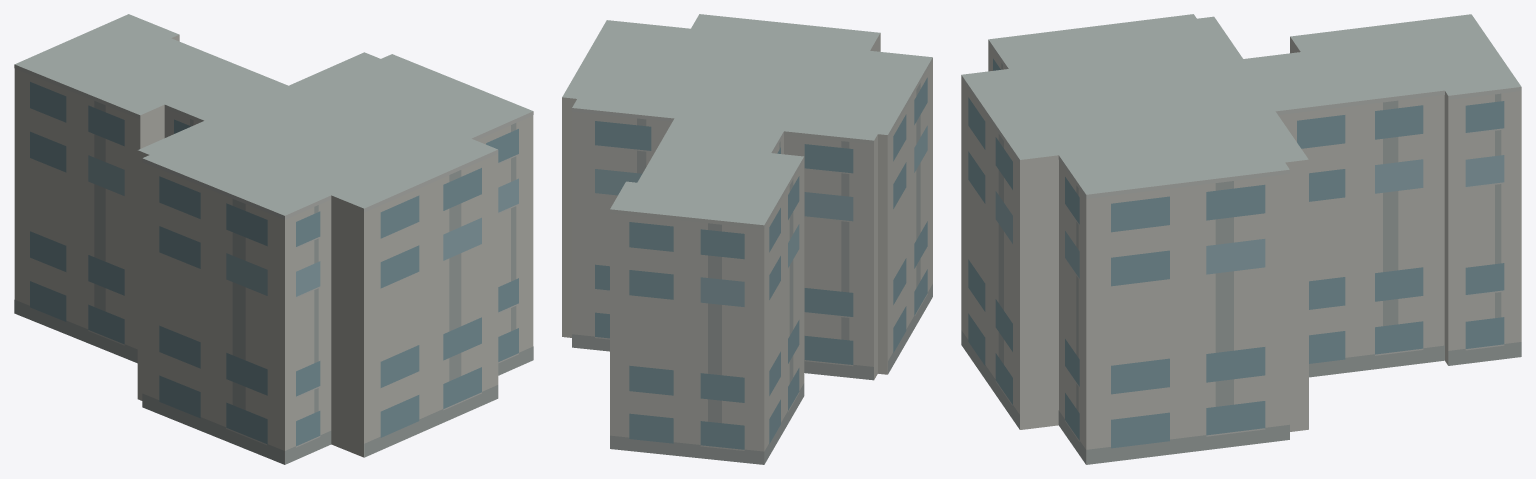
Rendered from residential-d09694d7-2ddc-436d-8719-87179670d28a.glb.
3 renders of one model, left to right at view 1: azimuth 30°, elevation 25°; view 2: azimuth 150°, elevation 25°; view 3: azimuth 270°, elevation 25°, orthographic. The views are drawn at different scales.
Visible parts, largest first — view 1: residential-d09694d7-2ddc-436d-8719-87179670d28a.tmp; view 2: residential-d09694d7-2ddc-436d-8719-87179670d28a.tmp; view 3: residential-d09694d7-2ddc-436d-8719-87179670d28a.tmp.
Boxes of the visible parts, <box> form: residential-d09694d7-2ddc-436d-8719-87179670d28a.tmp: <box>14,14,533,464</box>; residential-d09694d7-2ddc-436d-8719-87179670d28a.tmp: <box>562,14,932,464</box>; residential-d09694d7-2ddc-436d-8719-87179670d28a.tmp: <box>961,14,1521,464</box>.
Bounding box in the file's own units: 21.9 × 15.25 × 28.68.
